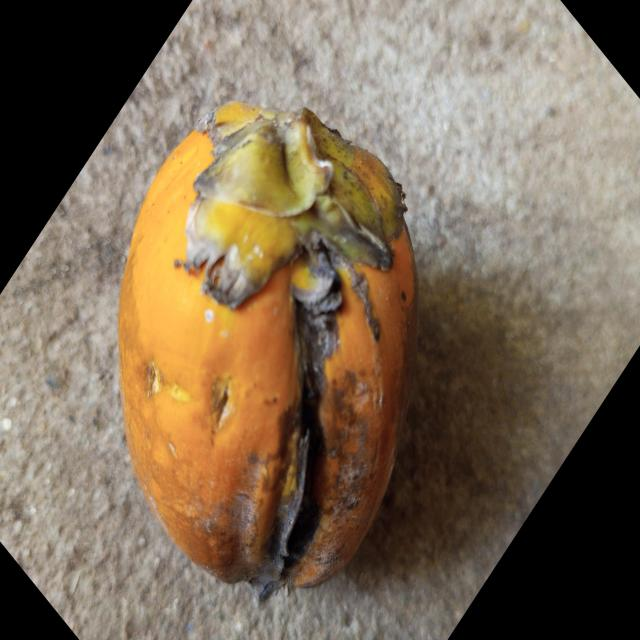damaged: (115, 101, 419, 598)
